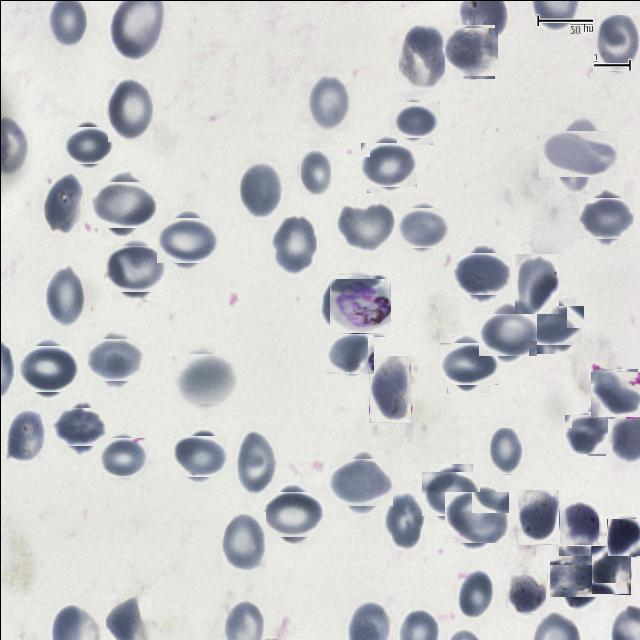red blood cell: (546, 122, 608, 184), (447, 488, 505, 546), (176, 350, 234, 406), (398, 24, 446, 91), (95, 176, 151, 232), (332, 454, 388, 510), (108, 240, 164, 296), (106, 78, 152, 142), (20, 341, 74, 395), (266, 486, 320, 540), (552, 548, 606, 602), (160, 212, 213, 266), (368, 355, 410, 422), (270, 214, 316, 275), (234, 428, 276, 494), (336, 203, 393, 251), (221, 511, 265, 572), (592, 14, 639, 71), (424, 467, 476, 518), (514, 253, 558, 313), (456, 248, 508, 298), (444, 26, 496, 76), (238, 160, 282, 218), (482, 309, 533, 359), (42, 172, 83, 234), (442, 338, 492, 388), (363, 138, 413, 188), (90, 334, 140, 384), (382, 491, 424, 550), (44, 266, 85, 326), (174, 430, 223, 480), (307, 72, 349, 130), (4, 406, 46, 462), (516, 489, 558, 544), (582, 193, 630, 241), (531, 301, 579, 348), (590, 369, 638, 416), (56, 403, 103, 450), (399, 203, 445, 250), (100, 434, 146, 479), (456, 568, 493, 621), (590, 545, 630, 594), (65, 123, 109, 167), (392, 96, 436, 140), (328, 332, 372, 376), (558, 500, 598, 545), (565, 412, 606, 453), (506, 574, 546, 614), (488, 427, 522, 473), (298, 147, 330, 194), (319, 273, 346, 325), (606, 518, 640, 556)
trophozoite: (330, 276, 388, 334)
